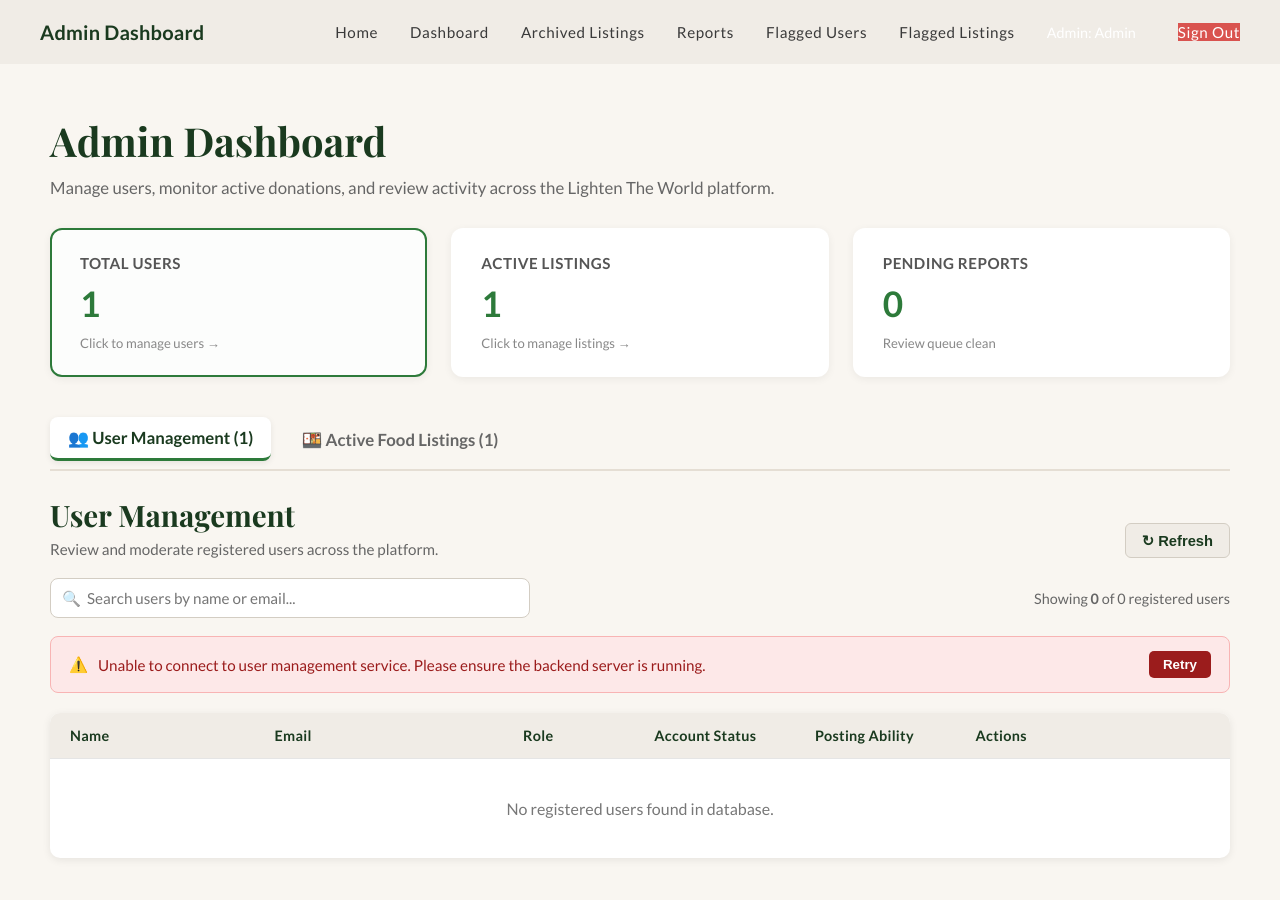
Test: Deployment Readiness End-to-End UI & Failure-Mode Flows › Admin login, session refresh, moderation & capacity modal failure modes › AdminDashboard recovers from 500 on users/listings fetch and supports listing removal moderation
Expected: the text "Unable to connect to user management service" is shown, top-left (98, 656), bottom-right (706, 674)
Click the button "Retry": (1180, 664) top-left (1149, 651), bottom-right (1211, 678)
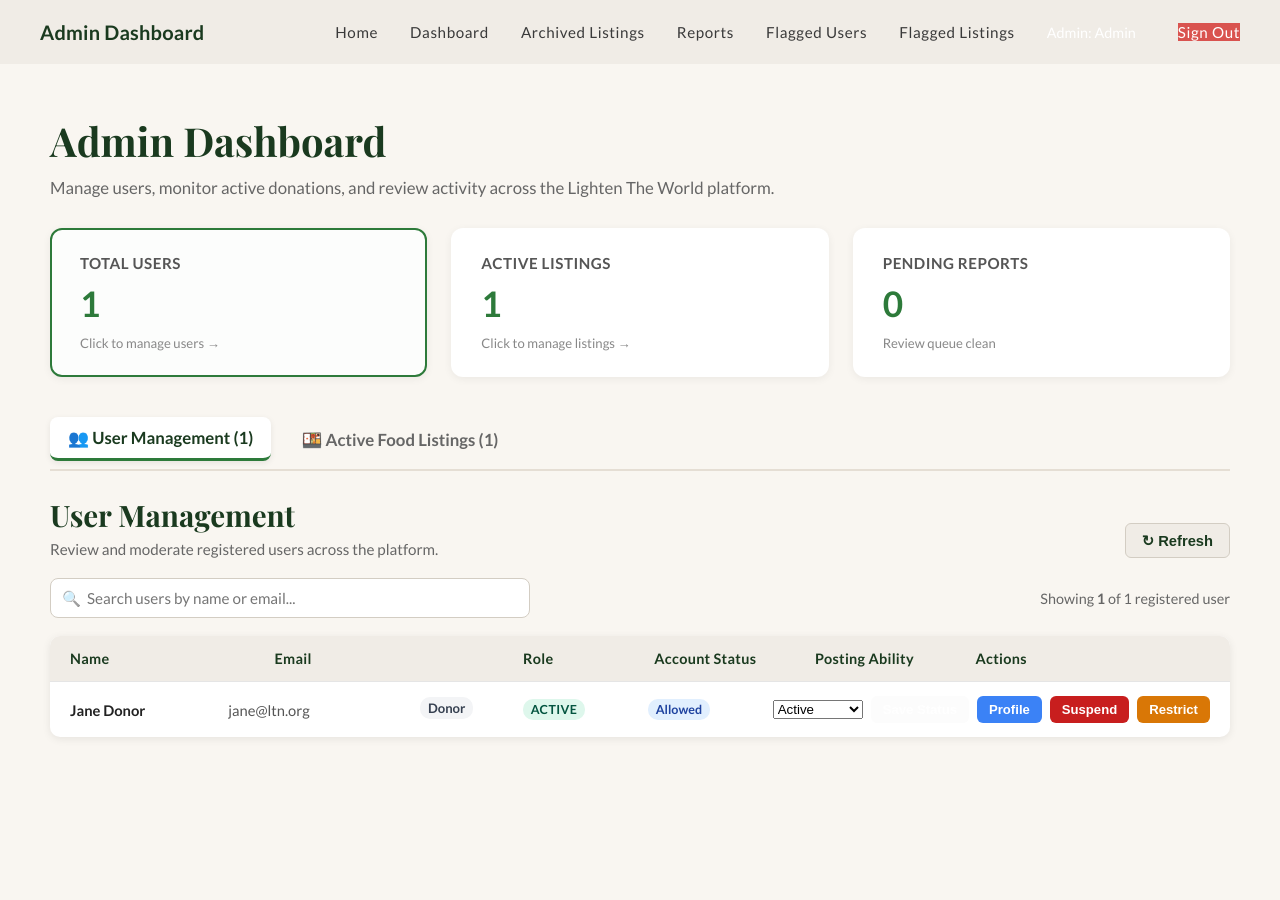
Expected: the text "Jane Donor" is shown, top-left (70, 700), bottom-right (145, 718)
# Switch to Active Food Listings tab and remove a listing with reason
Click the button "🍱 Active Food Listings (1)": (400, 439) top-left (283, 417), bottom-right (516, 461)
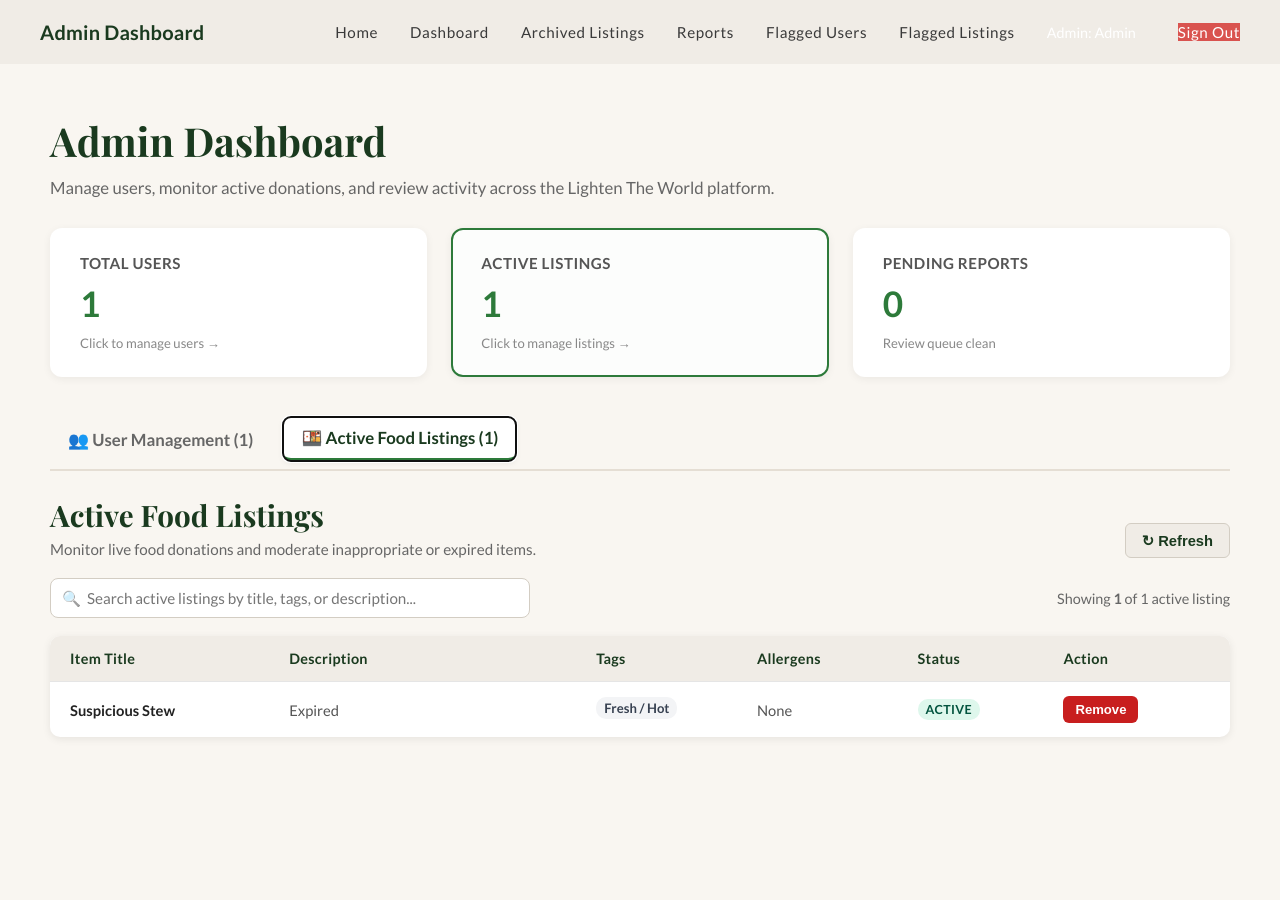
Expected: the text "Suspicious Stew" is shown, top-left (70, 700), bottom-right (175, 718)
Click the button "Remove": (1101, 710) top-left (1063, 696), bottom-right (1138, 723)
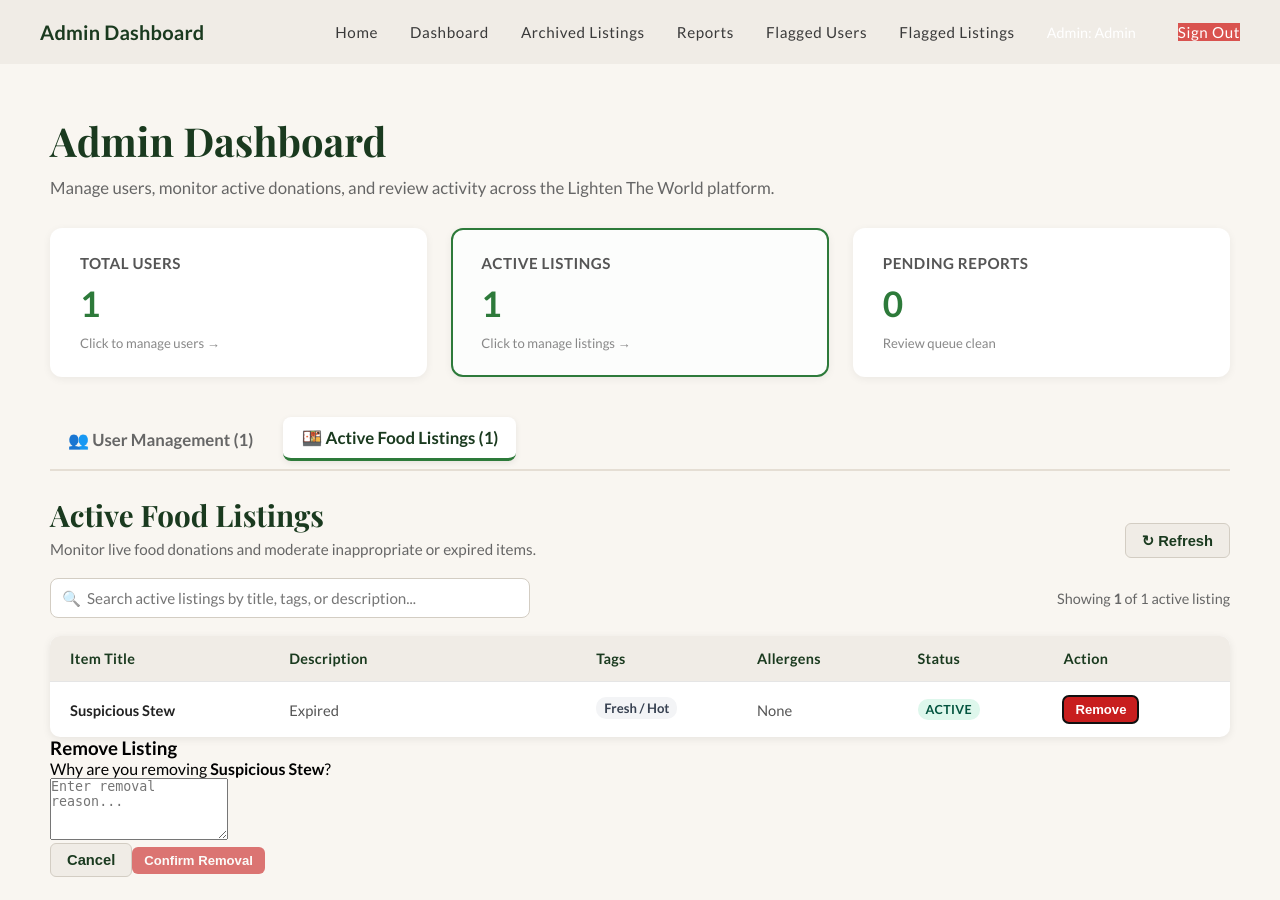
In the text box with placeholder "Enter removal reason...": (139, 809) top-left (50, 778), bottom-right (228, 840), type "Food safety concern"
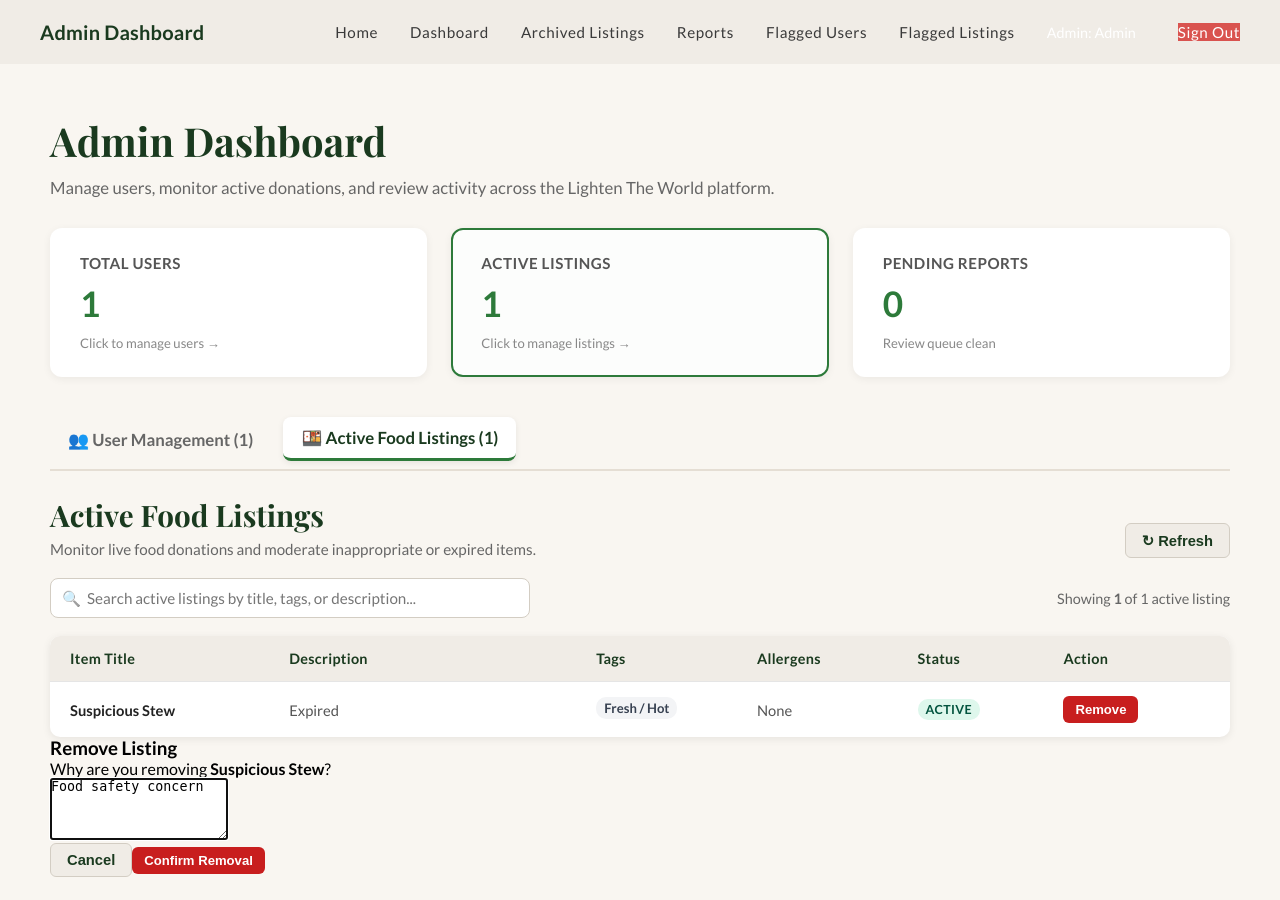
Click the button "Confirm Removal": (199, 860) top-left (132, 847), bottom-right (265, 874)
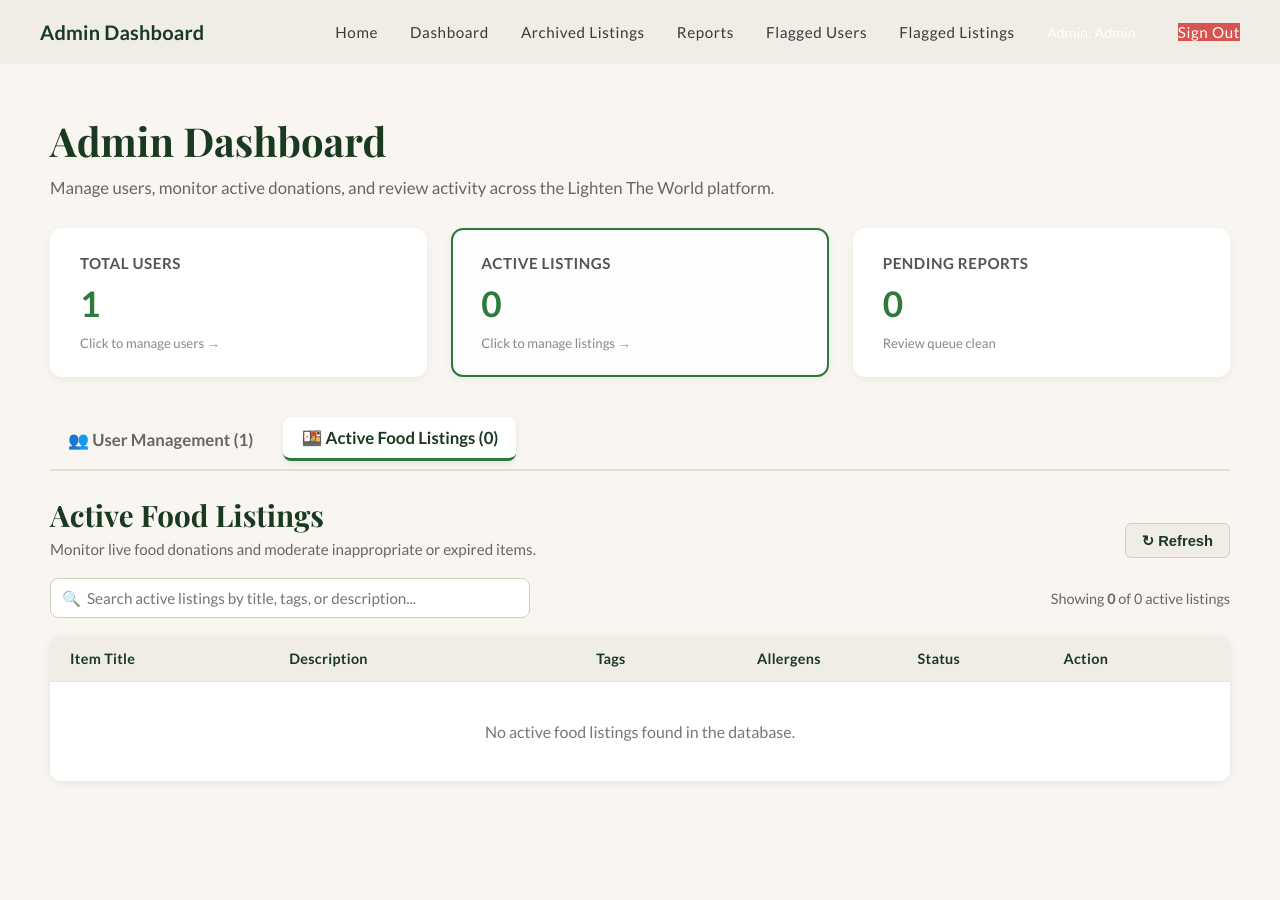
Expected: the text "Suspicious Stew" is gone
